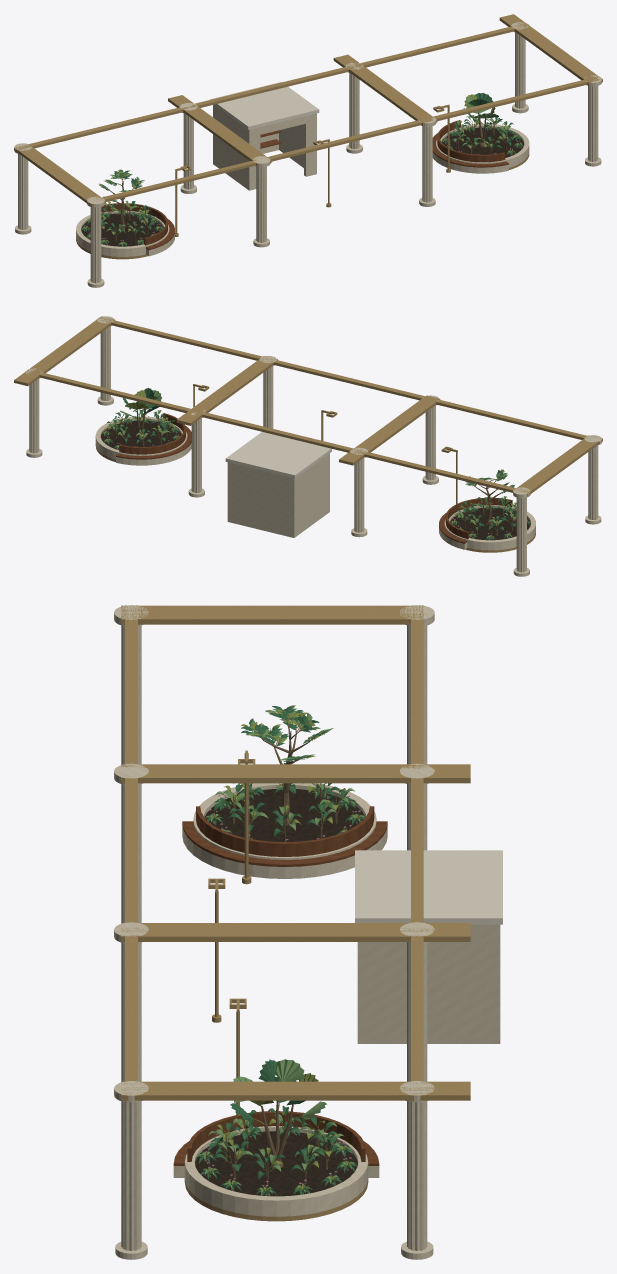
File: G7_Completion_R007_G7C7_D16_ForeGardenCourt.glb
3 views of the same model, one above another, from view 1: azimuth 30°, elevation 25°; view 2: azimuth 150°, elevation 25°; view 3: azimuth 270°, elevation 25° (orthographic). The views are drawn at different scales.
Parts seen in each view (by area): view 1: G7C7_D16_ForeGardenCourt_G7C7_stone_solid_frame, G7C7_D16_ForeGardenCourt_G7C7_metal_solid_frame, G7C7_D16_ForeGardenCourt_G7C7_soil_solid_planter, G7C7_D16_ForeGardenCourt_G7C7_roof_solid_roof, G7C7_D16_ForeGardenCourt_G7C7_wood_solid_furniture, G7C7_D16_ForeGardenCourt_G7C7_stone_solid_planter, G7C7_D16_ForeGardenCourt_ASTRAEA_botanical_leaf_jade.001_vis, G7C7_D16_ForeGardenCourt_G7C7_metal_solid_fixture, G7C7_D16_ForeGardenCourt_G7C7_stone_solid_furniture, G7C7_D16_ForeGardenCourt_ASTRAEA_botanical_leaf_sage.001_vis, G7C7_D16_ForeGardenCourt_ASTRAEA_botanical_leaf_olive.001_vi, G7C7_D16_ForeGardenCourt_ASTRAEA_botanical_bark.001_visual_f; view 2: G7C7_D16_ForeGardenCourt_G7C7_stone_solid_frame, G7C7_D16_ForeGardenCourt_G7C7_metal_solid_frame, G7C7_D16_ForeGardenCourt_G7C7_roof_solid_roof, G7C7_D16_ForeGardenCourt_G7C7_soil_solid_planter, G7C7_D16_ForeGardenCourt_G7C7_wood_solid_furniture, G7C7_D16_ForeGardenCourt_G7C7_stone_solid_planter, G7C7_D16_ForeGardenCourt_ASTRAEA_botanical_leaf_jade.001_vis, G7C7_D16_ForeGardenCourt_G7C7_stone_solid_furniture, G7C7_D16_ForeGardenCourt_G7C7_metal_solid_fixture, G7C7_D16_ForeGardenCourt_ASTRAEA_botanical_leaf_sage.001_vis, G7C7_D16_ForeGardenCourt_ASTRAEA_botanical_leaf_olive.001_vi, G7C7_D16_ForeGardenCourt_ASTRAEA_botanical_bark.001_visual_f; view 3: G7C7_D16_ForeGardenCourt_G7C7_metal_solid_frame, G7C7_D16_ForeGardenCourt_G7C7_stone_solid_frame, G7C7_D16_ForeGardenCourt_G7C7_soil_solid_planter, G7C7_D16_ForeGardenCourt_G7C7_roof_solid_roof, G7C7_D16_ForeGardenCourt_G7C7_wood_solid_furniture, G7C7_D16_ForeGardenCourt_G7C7_stone_solid_planter, G7C7_D16_ForeGardenCourt_G7C7_stone_solid_furniture, G7C7_D16_ForeGardenCourt_ASTRAEA_botanical_leaf_jade.001_vis, G7C7_D16_ForeGardenCourt_G7C7_metal_solid_fixture, G7C7_D16_ForeGardenCourt_ASTRAEA_botanical_leaf_sage.001_vis, G7C7_D16_ForeGardenCourt_ASTRAEA_botanical_leaf_olive.001_vi, G7C7_D16_ForeGardenCourt_ASTRAEA_botanical_leaf_jade.002_vis (+5 smaller).
Part boxes in pixels (x1,y1,x2,y2): G7C7_D16_ForeGardenCourt_G7C7_stone_solid_frame: [14, 22, 601, 287]; G7C7_D16_ForeGardenCourt_G7C7_metal_solid_frame: [14, 14, 602, 206]; G7C7_D16_ForeGardenCourt_G7C7_soil_solid_planter: [81, 127, 524, 246]; G7C7_D16_ForeGardenCourt_G7C7_roof_solid_roof: [210, 82, 319, 129]; G7C7_D16_ForeGardenCourt_G7C7_wood_solid_furniture: [101, 120, 508, 250]; G7C7_D16_ForeGardenCourt_G7C7_stone_solid_planter: [76, 123, 529, 256]; G7C7_D16_ForeGardenCourt_ASTRAEA_botanical_leaf_jade.001_vis: [101, 117, 515, 234]; G7C7_D16_ForeGardenCourt_G7C7_metal_solid_fixture: [175, 104, 450, 236]; G7C7_D16_ForeGardenCourt_G7C7_stone_solid_furniture: [146, 152, 508, 256]; G7C7_D16_ForeGardenCourt_ASTRAEA_botanical_leaf_sage.001_vis: [101, 116, 510, 231]; G7C7_D16_ForeGardenCourt_ASTRAEA_botanical_leaf_olive.001_vi: [101, 115, 510, 234]; G7C7_D16_ForeGardenCourt_ASTRAEA_botanical_bark.001_visual_f: [101, 120, 507, 241]; G7C7_D16_ForeGardenCourt_G7C7_stone_solid_frame: [25, 316, 601, 576]; G7C7_D16_ForeGardenCourt_G7C7_metal_solid_frame: [14, 316, 602, 496]; G7C7_D16_ForeGardenCourt_G7C7_roof_solid_roof: [225, 432, 331, 478]; G7C7_D16_ForeGardenCourt_G7C7_soil_solid_planter: [100, 420, 530, 540]; G7C7_D16_ForeGardenCourt_G7C7_wood_solid_furniture: [116, 413, 515, 543]; G7C7_D16_ForeGardenCourt_G7C7_stone_solid_planter: [95, 416, 535, 550]; G7C7_D16_ForeGardenCourt_ASTRAEA_botanical_leaf_jade.001_vis: [107, 409, 516, 530]; G7C7_D16_ForeGardenCourt_G7C7_stone_solid_furniture: [116, 443, 515, 549]; G7C7_D16_ForeGardenCourt_G7C7_metal_solid_fixture: [193, 384, 457, 504]; G7C7_D16_ForeGardenCourt_ASTRAEA_botanical_leaf_sage.001_vis: [108, 409, 516, 524]; G7C7_D16_ForeGardenCourt_ASTRAEA_botanical_leaf_olive.001_vi: [108, 408, 516, 529]; G7C7_D16_ForeGardenCourt_ASTRAEA_botanical_bark.001_visual_f: [114, 413, 515, 535]; G7C7_D16_ForeGardenCourt_G7C7_metal_solid_frame: [121, 605, 470, 1100]; G7C7_D16_ForeGardenCourt_G7C7_stone_solid_frame: [114, 605, 500, 1259]; G7C7_D16_ForeGardenCourt_G7C7_soil_solid_planter: [195, 788, 365, 1196]; G7C7_D16_ForeGardenCourt_G7C7_roof_solid_roof: [355, 850, 502, 924]; G7C7_D16_ForeGardenCourt_G7C7_wood_solid_furniture: [173, 806, 387, 1165]; G7C7_D16_ForeGardenCourt_G7C7_stone_solid_planter: [184, 783, 376, 1216]; G7C7_D16_ForeGardenCourt_G7C7_stone_solid_furniture: [173, 825, 387, 1177]; G7C7_D16_ForeGardenCourt_ASTRAEA_botanical_leaf_jade.001_vis: [208, 763, 355, 1179]; G7C7_D16_ForeGardenCourt_G7C7_metal_solid_fixture: [208, 750, 255, 1114]; G7C7_D16_ForeGardenCourt_ASTRAEA_botanical_leaf_sage.001_vis: [208, 783, 354, 1171]; G7C7_D16_ForeGardenCourt_ASTRAEA_botanical_leaf_olive.001_vi: [211, 783, 354, 1175]; G7C7_D16_ForeGardenCourt_ASTRAEA_botanical_leaf_jade.002_vis: [195, 785, 364, 1196].
Size of the model in its own units: 27.22 by 4.26 by 9.12.
Materials: 23 (22 with a texture image).
